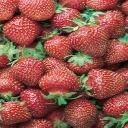strawberry: (80, 68, 128, 99), (38, 66, 81, 100), (18, 86, 63, 117), (68, 22, 108, 56), (3, 14, 40, 46), (62, 51, 104, 72)
